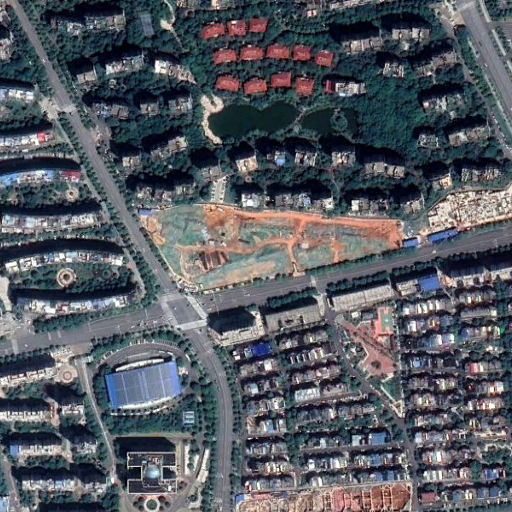cw: (142, 201, 405, 290)
